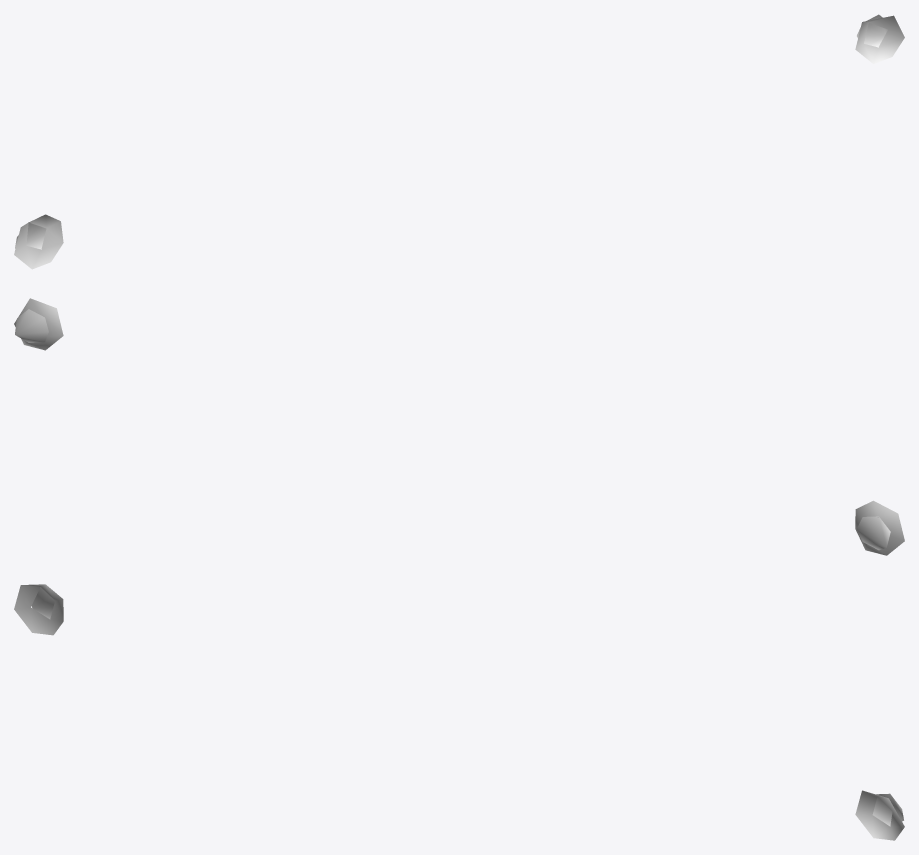
3 renders of one model, top to bottom at view 1: azimuth 30°, elevation 25°; view 2: azimuth 150°, elevation 25°; view 3: azimuth 330°, elevation 25°, orthographic.
Bounding box in the file's own units: 2.12 × 0.1178 × 0.046.
Materials: 1 (1 with a texture image).
